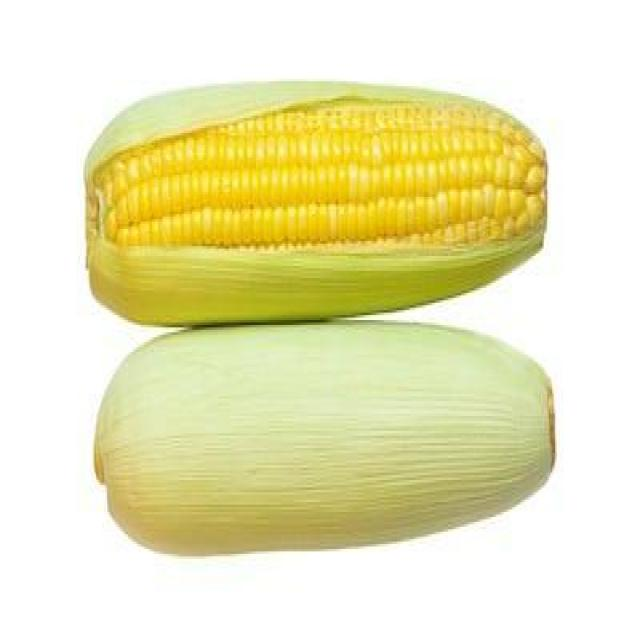Corn ear: (88, 88, 545, 279)
